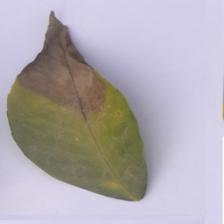black spot: (12, 14, 125, 121)
